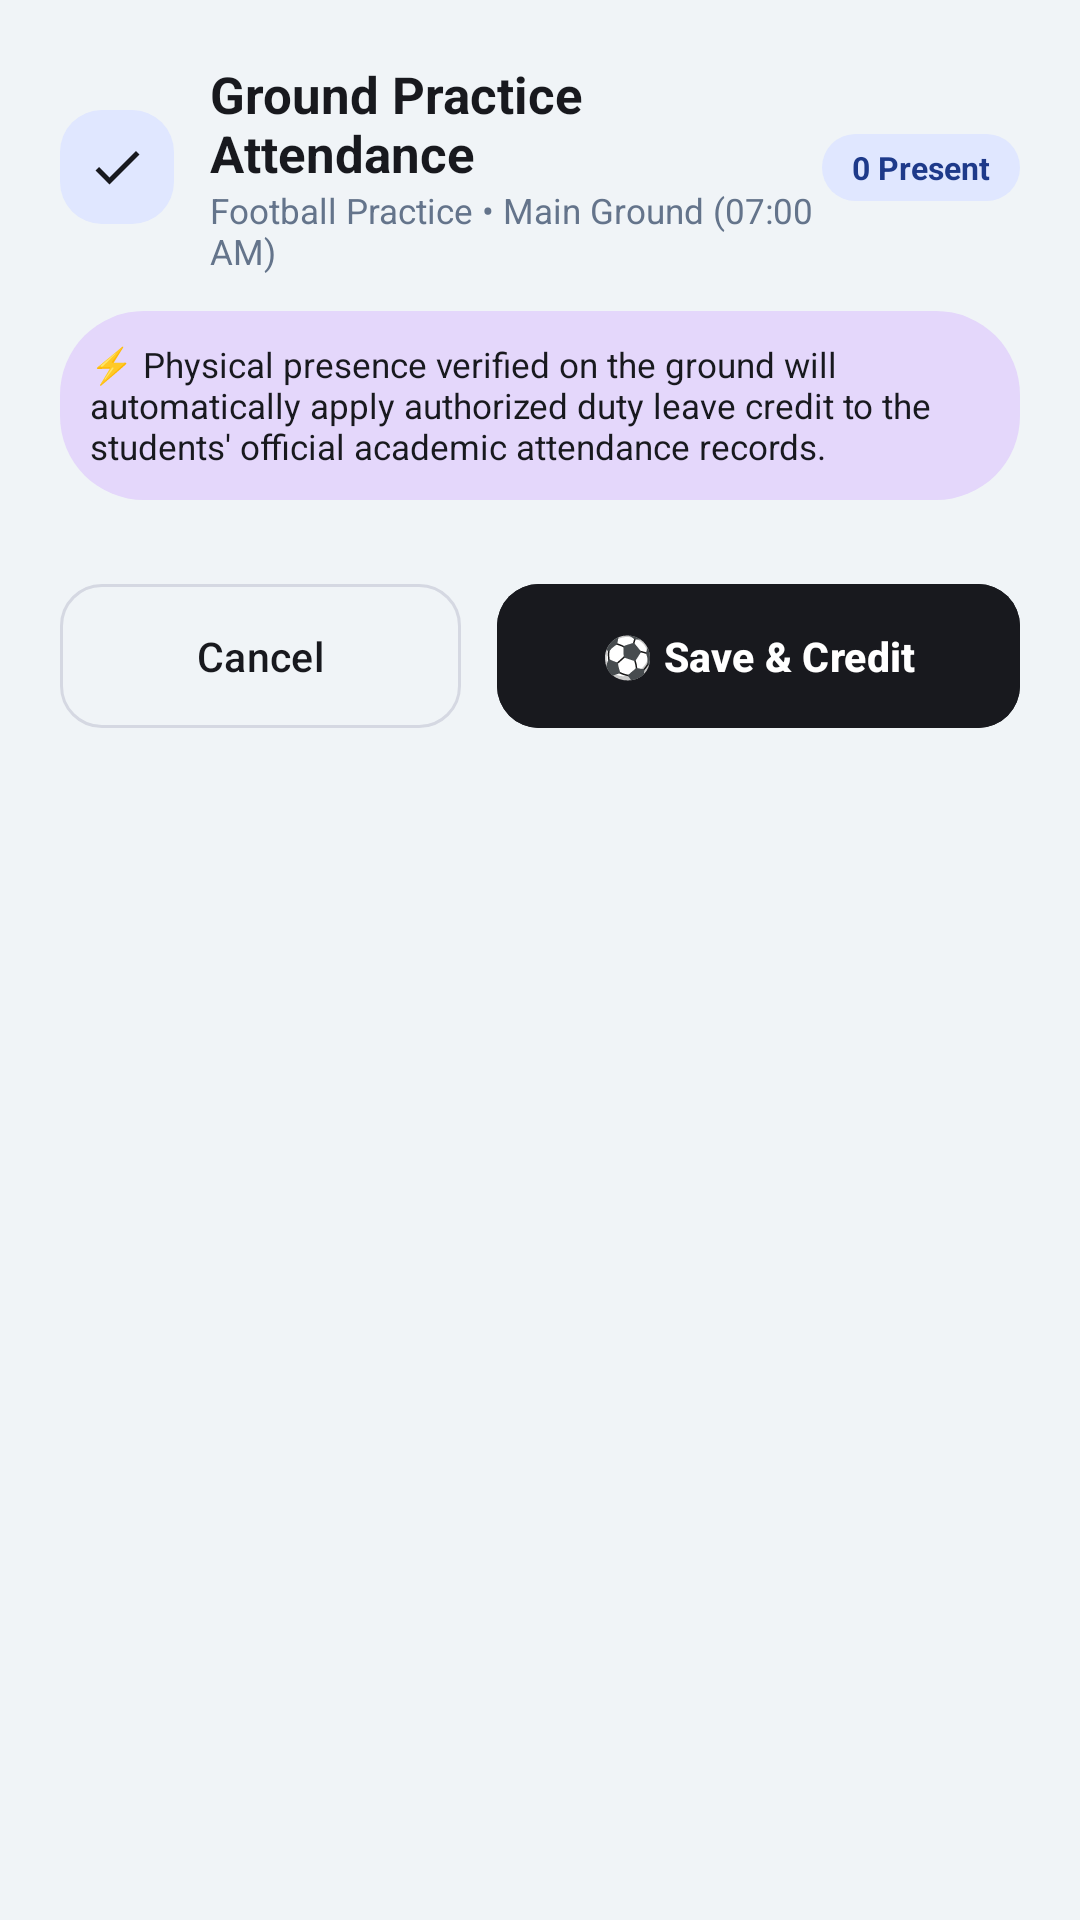

Locate icon controls on the screen. Image size 1080 x 1920, boxes as Rect(x1, y1, x2, y2).
check: Rect(60, 110, 174, 224)
